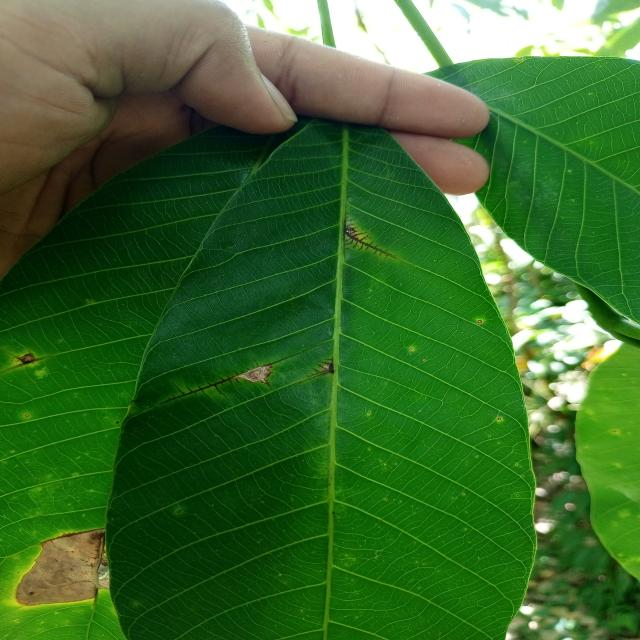Colletotrichum: (24, 414, 30, 418), (176, 510, 182, 513), (477, 320, 482, 323), (497, 418, 501, 420), (410, 348, 412, 350)
Corynespora: (342, 210, 397, 260), (154, 375, 242, 406), (40, 528, 105, 544), (3, 347, 45, 369), (307, 356, 335, 380), (261, 379, 270, 387)
Leaf-Blight: (15, 528, 110, 606), (237, 366, 271, 382)
